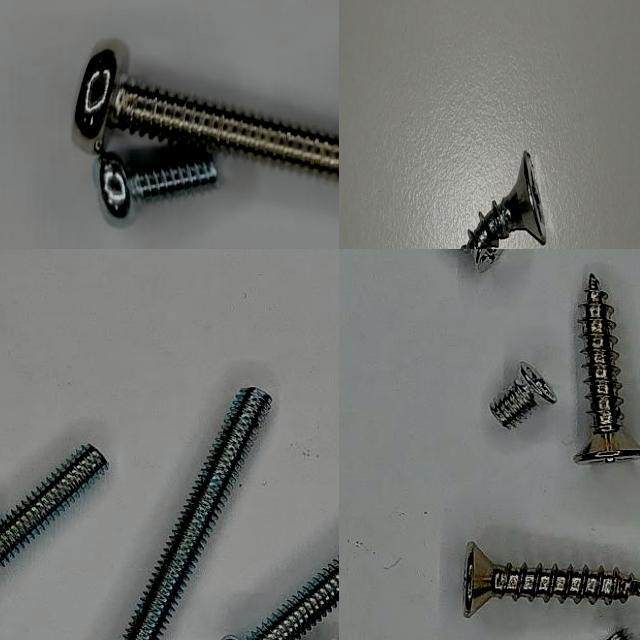Screw: (123, 388, 271, 640), (72, 40, 339, 175), (463, 543, 640, 619), (0, 444, 107, 568), (574, 273, 640, 464), (461, 150, 547, 249), (246, 558, 339, 640), (98, 154, 217, 218), (490, 362, 557, 430)
